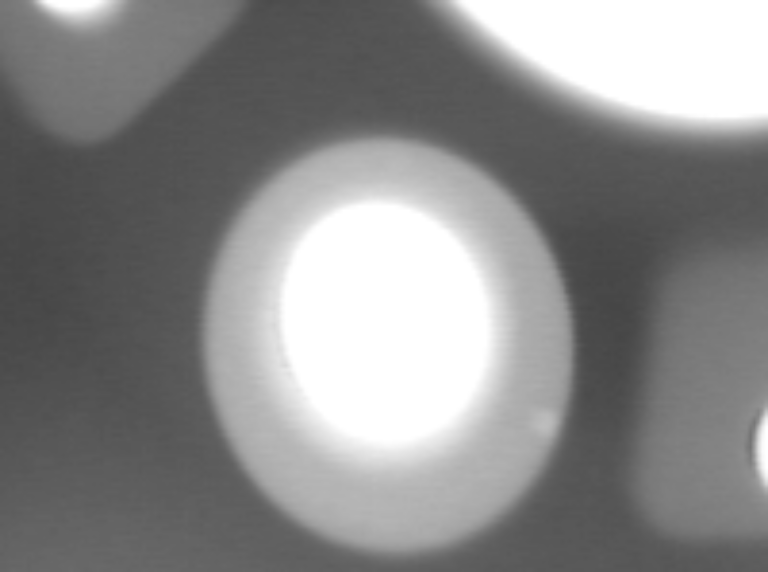defect: (534, 404, 576, 449)
